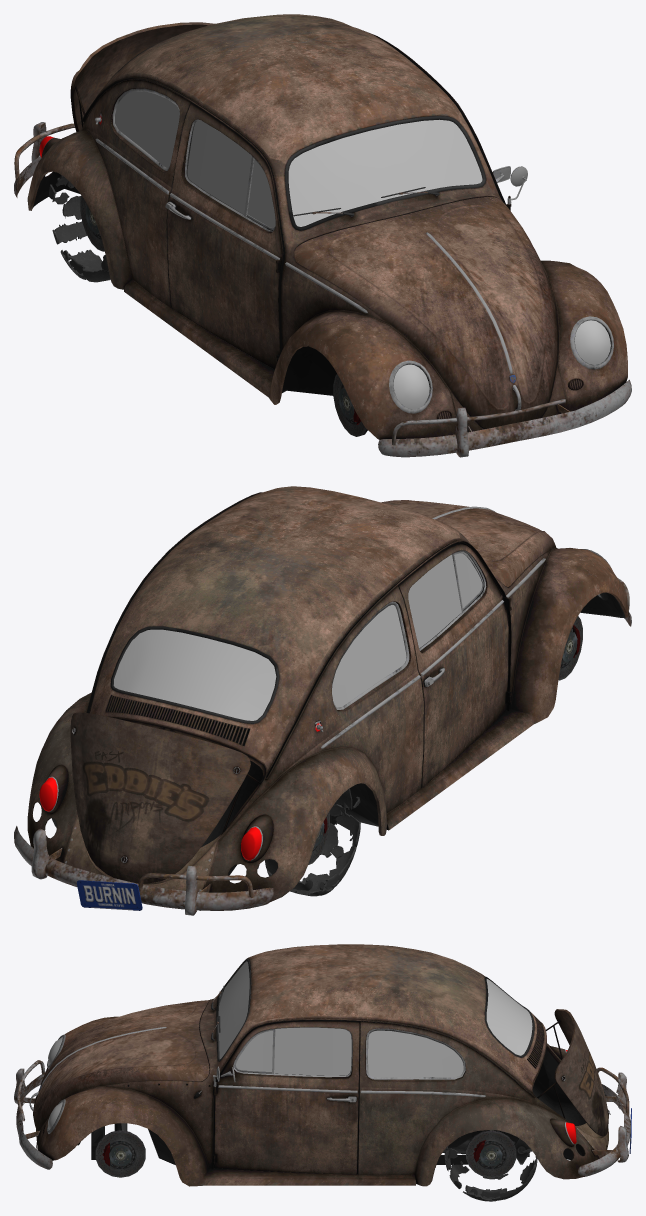
File: 51_AZNBeetle.fbx
3 renders of one model, top to bottom at view 1: azimuth 30°, elevation 25°; view 2: azimuth 150°, elevation 25°; view 3: azimuth 270°, elevation 25°, orthographic. The views are drawn at different scales.
Visible parts, largest first — view 1: Body_Duco, Body_Glass, Body_Chrome, Body_Kit_00, Undercarriage, Body_Rubber, Rotor (×2); view 2: Body_Duco, Body_Kit_00, Body_Glass, Body_Chrome, Undercarriage, Body_Rubber, NumberPlate, BrakeLights, Rotor; view 3: Body_Duco, Body_Glass, Body_Chrome, Rotor (×2), Body_Kit_00, Undercarriage, Body_Rubber.
Boxes of the visible parts, box(x1,y1,x2,y2) form: Body_Duco: box(27, 14, 627, 439); Body_Glass: box(115, 91, 610, 409); Body_Chrome: box(14, 88, 631, 457); Body_Kit_00: box(70, 22, 214, 131); Undercarriage: box(32, 172, 439, 395); Body_Rubber: box(110, 33, 486, 230); Rotor (×2): box(80, 195, 367, 436); Body_Duco: box(27, 486, 627, 910); Body_Kit_00: box(70, 712, 250, 883); Body_Glass: box(113, 553, 482, 720); Body_Chrome: box(14, 506, 631, 915); Undercarriage: box(32, 592, 625, 875); Body_Rubber: box(110, 552, 484, 723); NumberPlate: box(76, 880, 142, 910); BrakeLights: box(39, 777, 261, 860); Rotor: box(558, 616, 582, 680); Body_Duco: box(33, 944, 609, 1186); Body_Glass: box(48, 961, 532, 1129); Body_Chrome: box(14, 1027, 630, 1176); Rotor (×2): box(95, 1130, 516, 1177); Body_Kit_00: box(554, 1009, 608, 1136); Undercarriage: box(77, 986, 585, 1167); Body_Rubber: box(193, 958, 534, 1101).
Bounding box in the file's own units: 1.54 × 1.36 × 3.94.
